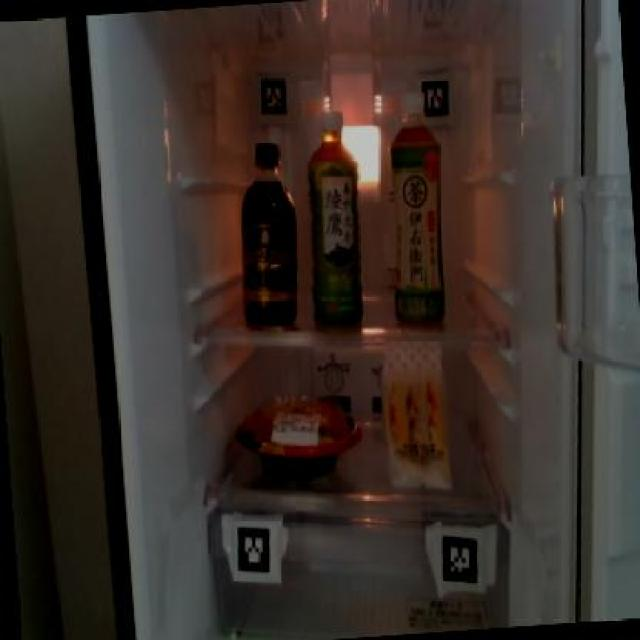bento: (233, 396, 364, 486)
coffee: (232, 136, 303, 327)
sandwich: (378, 340, 454, 498)
tea_a: (299, 110, 370, 332)
tea_i: (378, 113, 452, 329)
